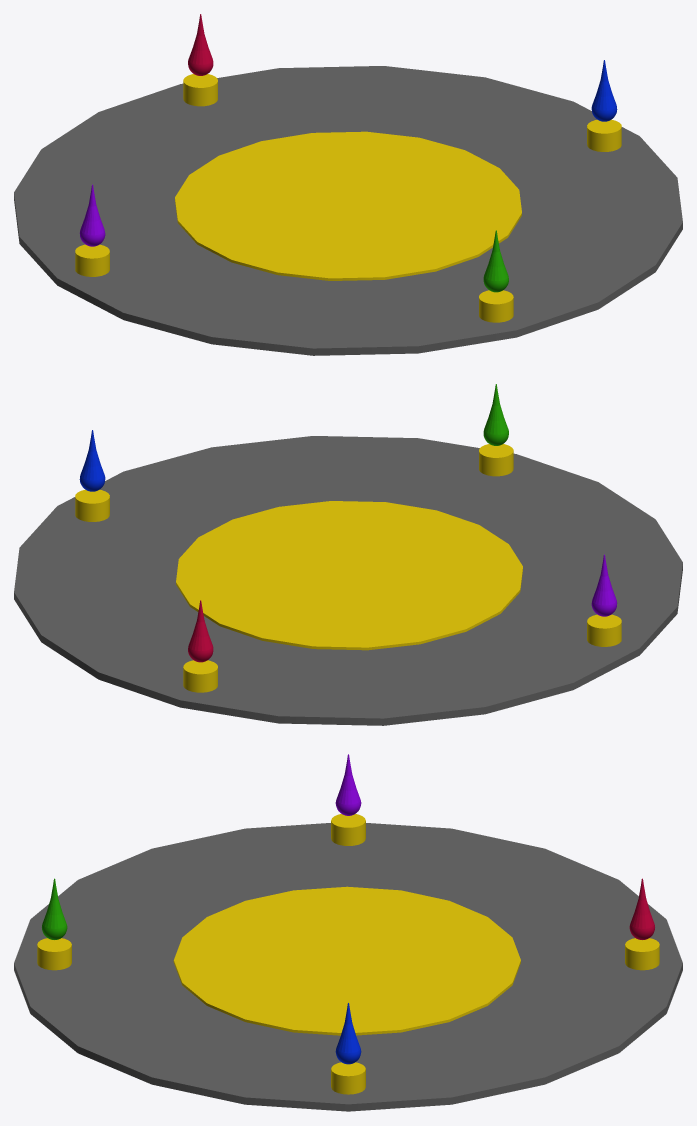
The model's file is Teleporter.fbx.
3 views of the same model, one above another, from view 1: azimuth 30°, elevation 25°; view 2: azimuth 150°, elevation 25°; view 3: azimuth 270°, elevation 25° (orthographic).
Parts seen in each view (by area): view 1: pCylinder1, pCylinder6, pCylinder2, pCylinder3, pCylinder4, pCylinder5, pSphere1, pSphere3, pSphere4, pSphere2; view 2: pCylinder1, pCylinder6, pCylinder3, pCylinder4, pCylinder5, pCylinder2, pSphere1, pSphere4, pSphere3, pSphere2; view 3: pCylinder1, pCylinder6, pCylinder3, pCylinder2, pCylinder5, pCylinder4, pSphere2, pSphere1, pSphere3, pSphere4.
Part boxes in pixels (left/top/right/bottom): pCylinder1: left=14, top=66, right=682, bottom=355; pCylinder6: left=175, top=131, right=521, bottom=280; pCylinder2: left=479, top=290, right=513, bottom=322; pCylinder3: left=587, top=119, right=621, bottom=151; pCylinder4: left=75, top=244, right=109, bottom=276; pCylinder5: left=183, top=74, right=217, bottom=106; pSphere1: left=79, top=184, right=105, bottom=246; pSphere3: left=483, top=230, right=508, bottom=292; pSphere4: left=188, top=14, right=213, bottom=75; pSphere2: left=591, top=60, right=617, bottom=121; pCylinder1: left=14, top=436, right=682, bottom=725; pCylinder6: left=176, top=501, right=522, bottom=650; pCylinder3: left=75, top=489, right=109, bottom=521; pCylinder4: left=587, top=614, right=621, bottom=646; pCylinder5: left=183, top=660, right=217, bottom=692; pCylinder2: left=479, top=444, right=513, bottom=476; pSphere1: left=591, top=554, right=617, bottom=616; pSphere4: left=188, top=600, right=213, bottom=662; pSphere3: left=483, top=384, right=508, bottom=445; pSphere2: left=79, top=430, right=105, bottom=491; pCylinder1: left=14, top=823, right=682, bottom=1111; pCylinder6: left=173, top=886, right=520, bottom=1035; pCylinder3: left=331, top=1062, right=365, bottom=1094; pCylinder2: left=37, top=938, right=71, bottom=970; pCylinder5: left=625, top=938, right=659, bottom=970; pCylinder4: left=331, top=814, right=365, bottom=845; pSphere2: left=335, top=1003, right=361, bottom=1064; pSphere1: left=335, top=754, right=361, bottom=815; pSphere3: left=42, top=878, right=67, bottom=939; pSphere4: left=629, top=878, right=654, bottom=939.
Bounding box in the file's own units: 27.31 × 4.12 × 27.31.
